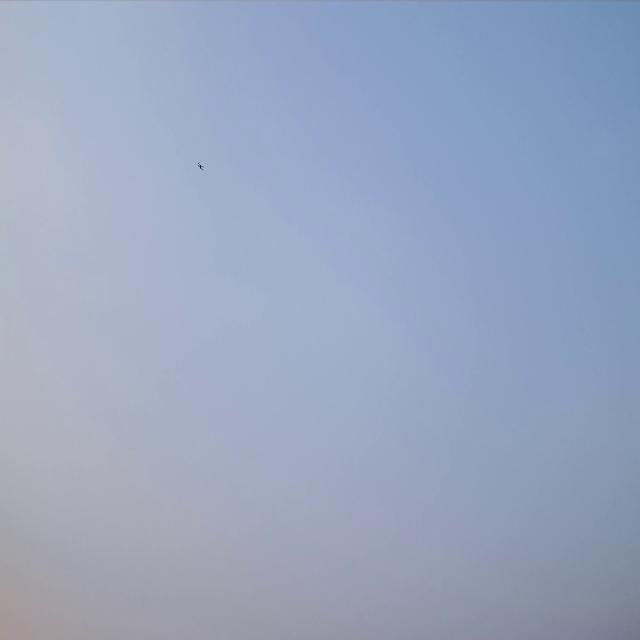UAV: (197, 161, 204, 171)
